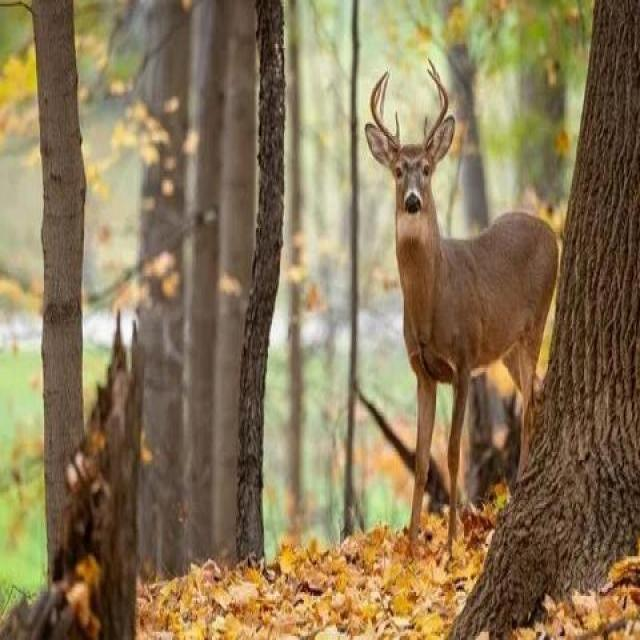deer: (336, 63, 560, 470)
